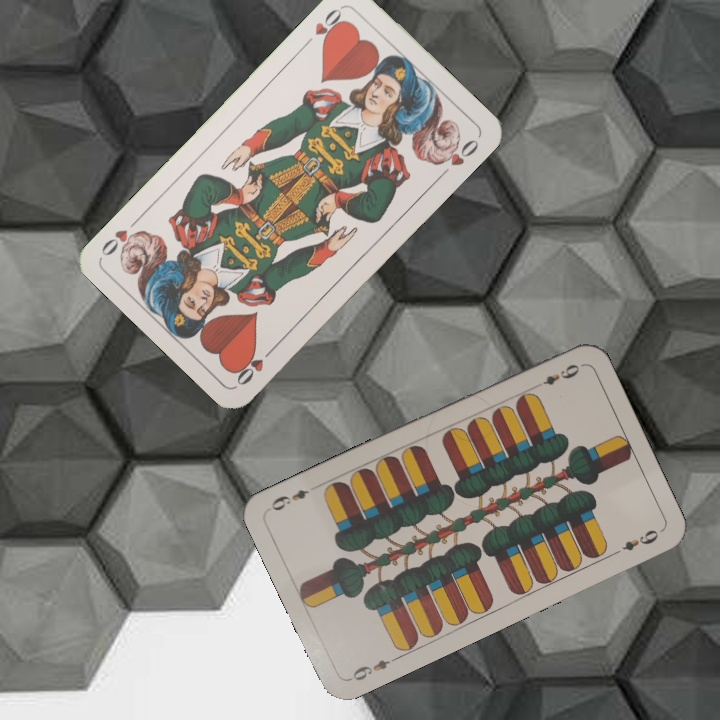E9: (345, 652, 401, 684), (539, 360, 583, 388)
HO: (231, 341, 279, 389), (300, 3, 349, 49)
